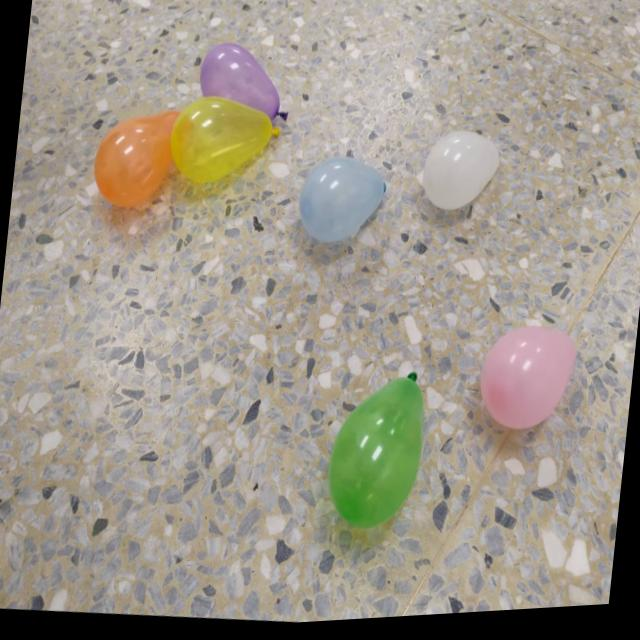other: (324, 366, 431, 540), (472, 324, 580, 442), (167, 90, 282, 191), (88, 103, 182, 216), (293, 153, 389, 254), (196, 39, 296, 130), (419, 131, 502, 222)
